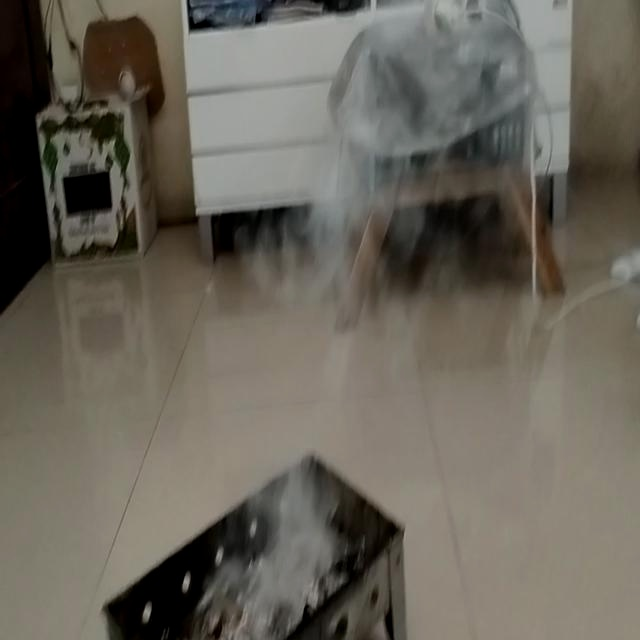smoke: (257, 27, 443, 610)
